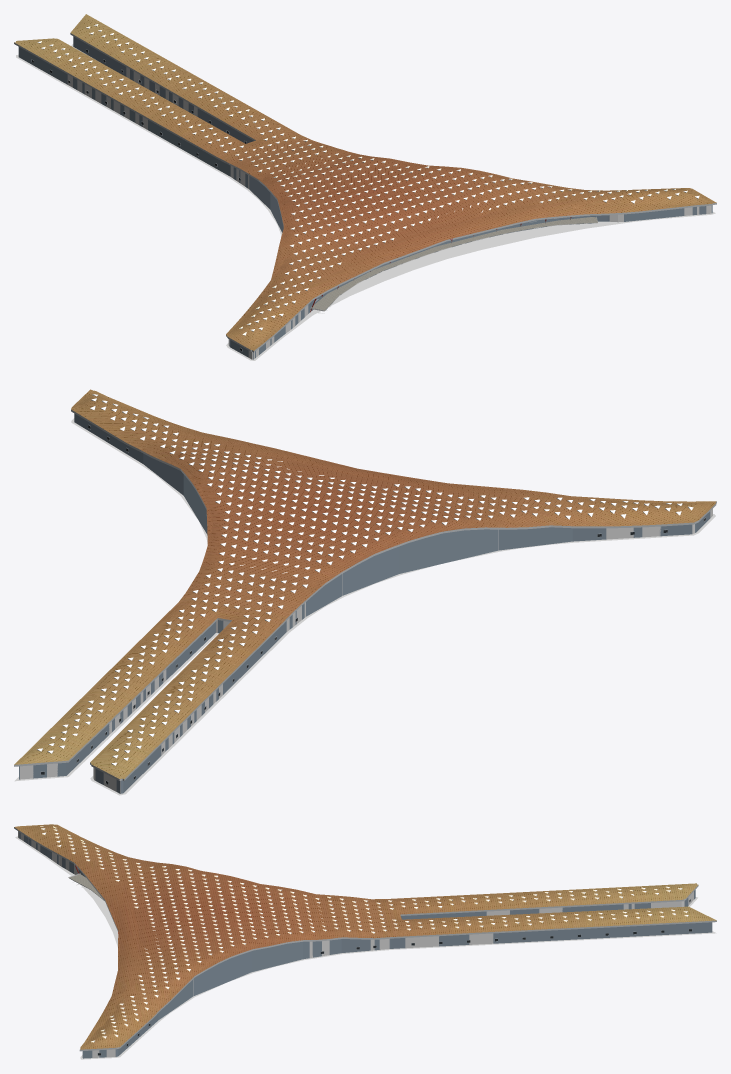
The picture shows the model from 3 angles, top to bottom: view 1: azimuth 30°, elevation 25°; view 2: azimuth 150°, elevation 25°; view 3: azimuth 270°, elevation 25°; orthographic projection. The views are drawn at different scales.
Parts seen in each view (by area): view 1: Terminal, Far, COL_hall7; view 2: Terminal, Far; view 3: Terminal, Far, COL_hall25, CLEAR_t3c_roof9, COL_hall8.
Part boxes in pixels (x1=…): Terminal: x1=16, y1=14, x2=715, y2=359; Far: x1=14, y1=14, x2=716, y2=352; COL_hall7: x1=67, y1=74, x2=147, y2=129; Terminal: x1=15, y1=390, x2=716, y2=793; Far: x1=14, y1=389, x2=716, y2=792; Terminal: x1=15, y1=824, x2=716, y2=1058; Far: x1=14, y1=824, x2=716, y2=1053; COL_hall25: x1=405, y1=933, x2=493, y2=948; CLEAR_t3c_roof9: x1=393, y1=931, x2=716, y2=949; COL_hall8: x1=486, y1=901, x2=681, y2=915.
Bounding box in the file's own units: 790 × 46.29 × 1041.
11 materials, 3 textured.
